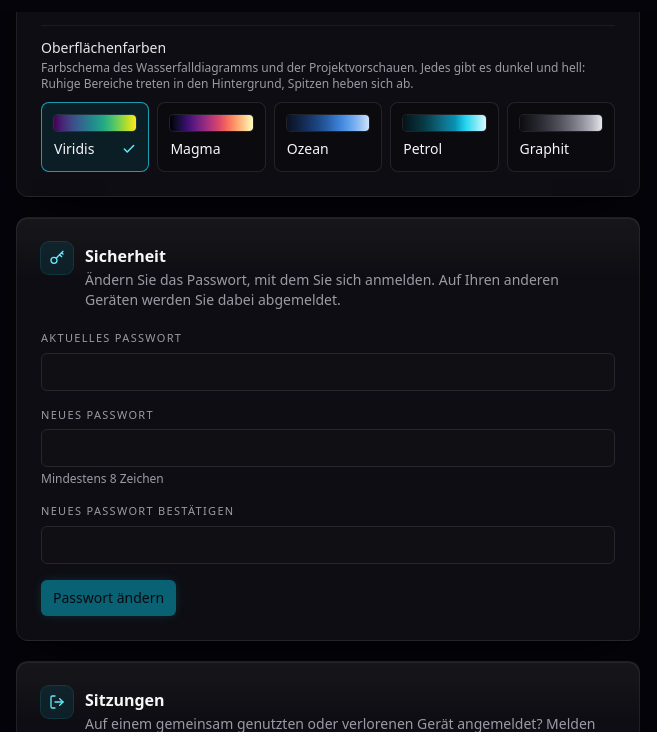
Test case: Settings: password › explains a wrong current password, in the chosen language
(page scrolled)
Type "nope" into the password field labelled "Aktuelles Passwort" at (328, 372), box [41,353,615,391]
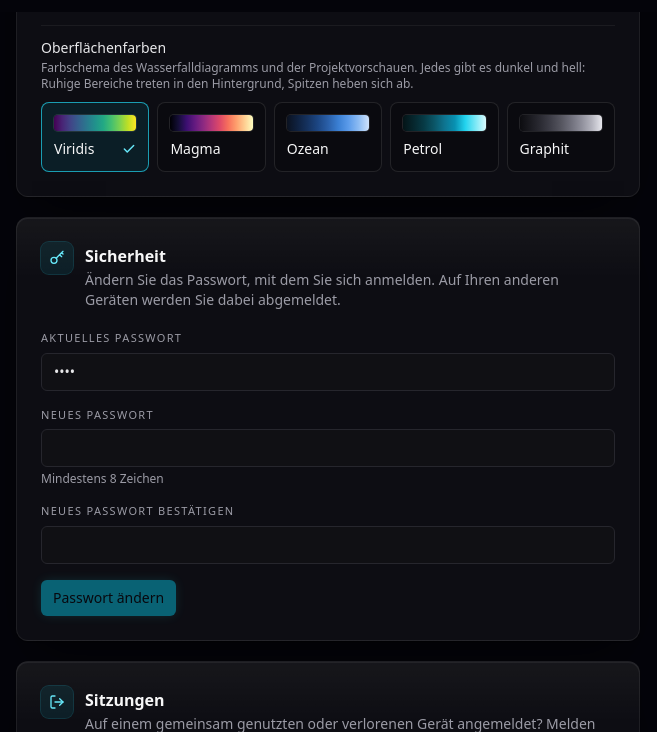
Type "new-secret-1" into the password field labelled "Neues Passwort" at (328, 448), box [41,429,615,467]
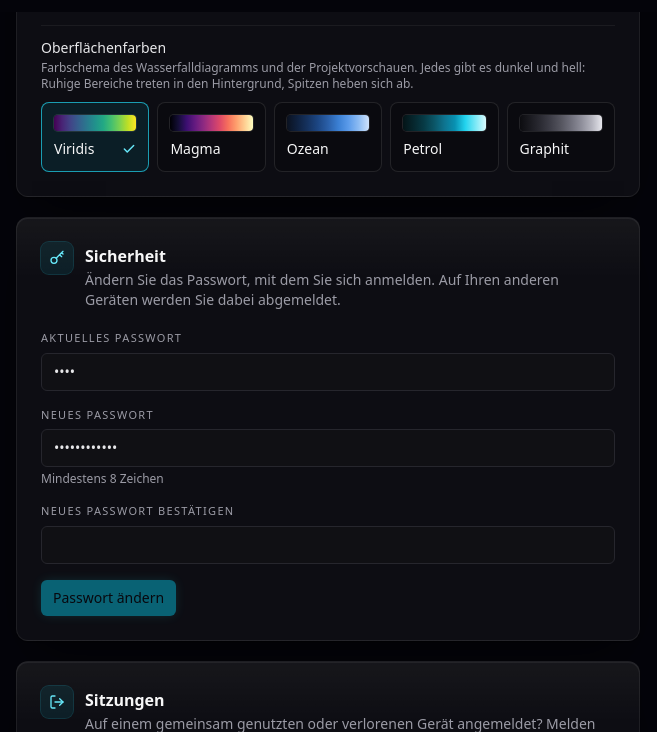
Type "new-secret-1" into the password field labelled "Neues Passwort bestätigen" at (328, 545), box [41,526,615,564]
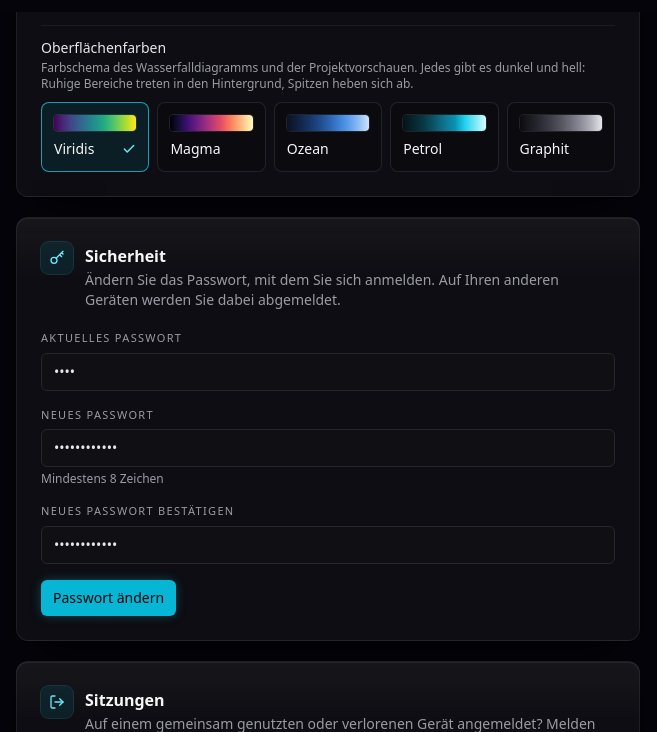
Click the button "Passwort ändern" at (109, 598), box [41,580,176,616]
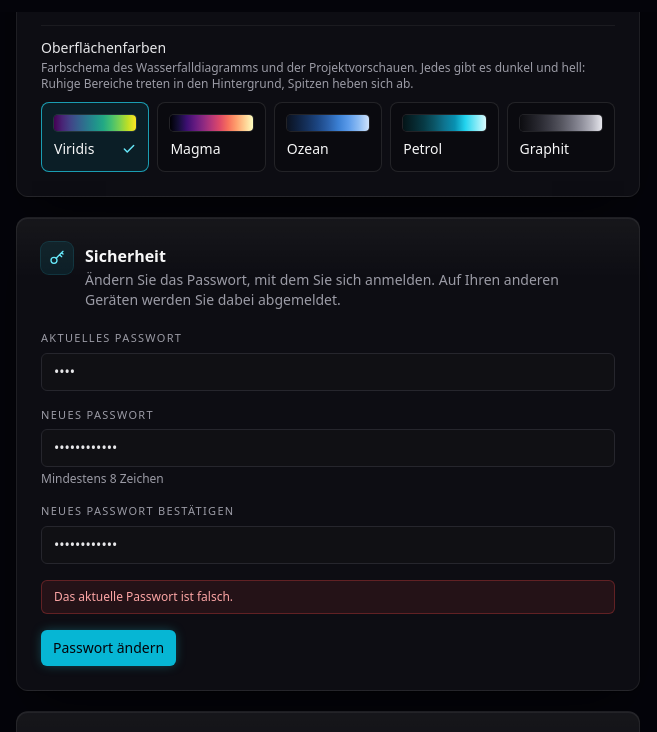
Check: the message reads "Das aktuelle Passwort ist falsch.", box [54,588,233,605]
